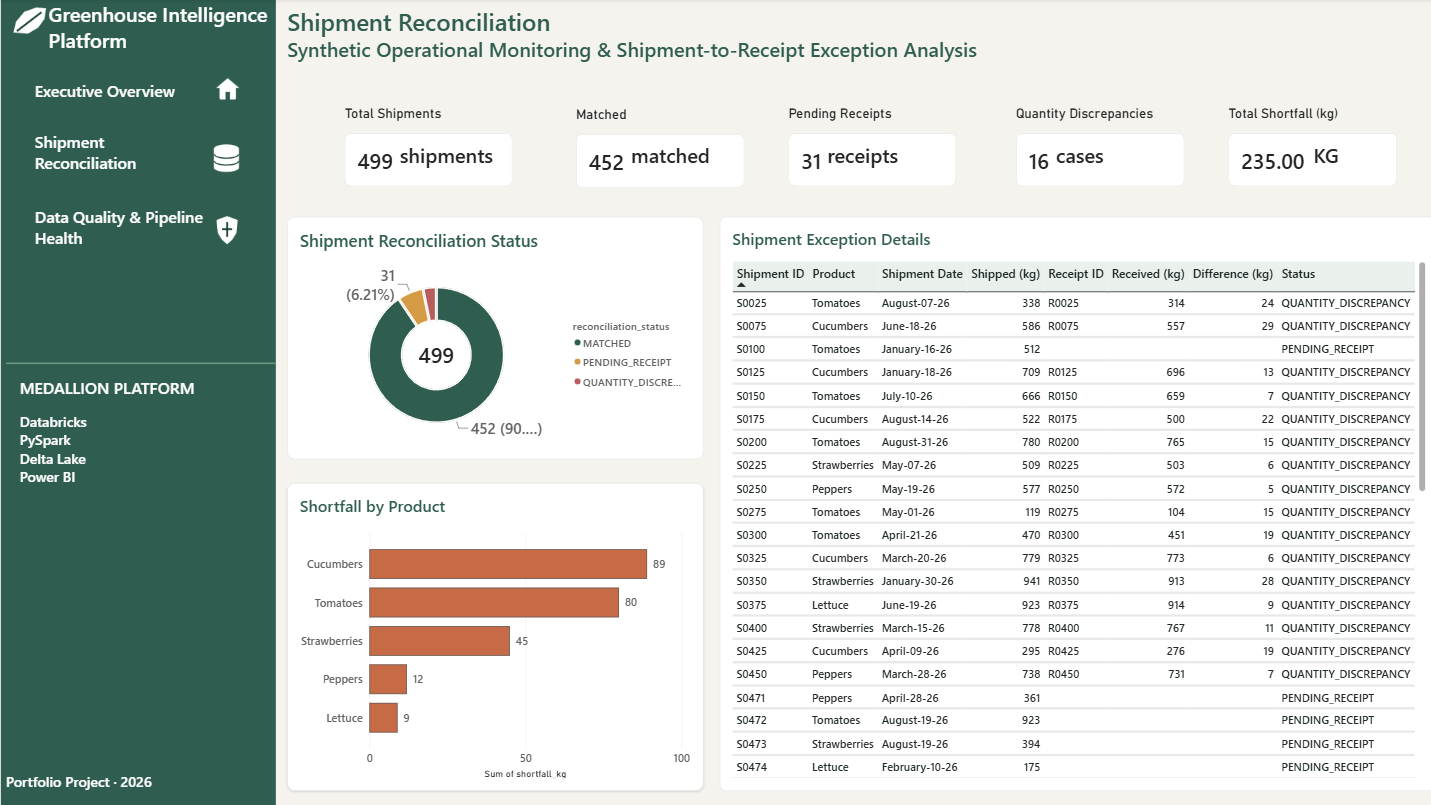

The dashboard page shown, as its layout file describes it:
{"tool":"powerbi","page":{"name":"Shipment Reconciliation","canvas":[1920,1080],"ordinal":1},"visuals":[{"type":"shape","box":[0,0,367.1,1080],"z":0,"group":"g7"},{"type":"cardVisual","title":"Total Shipments","fields":{"Data":["Sum(vw_reconciliation_kpis.total_shipments)"]},"box":[460,144.3,225,108.6],"z":0,"group":"g8"},{"type":"cardVisual","title":"Total Shortfall (kg)","fields":{"Data":["Sum(vw_reconciliation_kpis.total_shortfall_kg)"]},"box":[1640,144.3,225,108],"z":0,"group":"g6"},{"type":"donutChart","title":"Shipment Reconciliation Status","fields":{"Category":["fact_shipment_reconciliation.reconciliation_status"],"Y":["CountNonNull(fact_shipment_reconciliation.shipment_id)"]},"box":[382.9,292.9,555.7,324.3],"z":0},{"type":"image","box":[0,0,77.1,67.1],"z":1000,"group":"g7"},{"type":"cardVisual","title":"Pending Receipts","fields":{"Data":["Sum(vw_reconciliation_kpis.pending_receipts)"]},"box":[1051.4,144.3,225,108],"z":1000,"group":"g10"},{"type":"clusteredBarChart","title":"Shortfall by Product","fields":{"Category":["fact_shipment_reconciliation.product_name"],"Y":["Sum(fact_shipment_reconciliation.shortfall_kg)"]},"box":[382.9,648.6,555.7,411.4],"z":1000},{"type":"textbox","box":[64.3,2.9,292.9,95.7],"z":2000,"group":"g7"},{"type":"cardVisual","title":"Quantity Discrepancies","fields":{"Data":["Sum(vw_reconciliation_kpis.quantity_discrepancies)"]},"box":[1355.7,144.3,225,108],"z":2000,"group":"g11"},{"type":"tableEx","title":"Shipment Exception Details","fields":{"Values":["fact_shipment_reconciliation.shipment_id","fact_shipment_reconciliation.product_name","fact_shipment_reconciliation.shipment_date","Sum(fact_shipment_reconciliation.shipped_kg)","fact_shipment_reconciliation.receipt_id","Sum(fact_shipment_reconciliation.received_kg)","Sum(fact_shipment_reconciliation.quantity_difference_kg)","fact_shipment_reconciliation.reconciliation_status"]},"box":[960,292.9,960,767.1],"z":2000},{"type":"actionButton","box":[38.6,98.6,300,65.7],"z":3000,"group":"g7"},{"type":"textbox","box":[382.9,10,378.6,81.4],"z":4000},{"type":"textbox","box":[44.3,108.6,197.1,45.7],"z":4000,"group":"g7"},{"type":"cardVisual","title":"Matched","fields":{"Data":["Sum(vw_reconciliation_kpis.matched_shipments)"]},"box":[768.6,145.7,225,108.6],"z":4000,"group":"g4"},{"type":"textbox","box":[382.9,50,1064.3,58.6],"z":5000},{"type":"group","id":"g1","title":"Group 1","box":[267.1,98.6,71.4,45.7],"z":5000,"group":"g7"},{"type":"group","id":"g2","title":"Group 1","box":[1355.7,144.3,225,108],"z":6000},{"type":"actionButton","box":[38.6,174.3,300,70],"z":6000,"group":"g7"},{"type":"group","id":"g3","title":"Group 2","box":[1051.4,144.3,225,108],"z":7000},{"type":"image","box":[264.3,185.7,74.3,58.6],"z":7000,"group":"g7"},{"type":"textbox","box":[1752.9,192.5,74.3,40],"z":7000,"group":"g6"},{"type":"group","id":"g4","title":"Group 3","box":[768.6,145.7,225,108.6],"z":8000},{"type":"textbox","box":[44.3,177.1,211.4,58.6],"z":8000,"group":"g7"},{"type":"group","id":"g5","title":"Group 4","box":[460,144.3,225,108.6],"z":9000},{"type":"actionButton","box":[38.6,277.1,300,67.1],"z":9000,"group":"g7"},{"type":"group","id":"g6","title":"Group 5","box":[1640,144.3,225,108],"z":10000},{"type":"image","box":[257.1,284.3,90,52.9],"z":10000,"group":"g7"},{"type":"group","id":"g7","title":"Group 2","box":[0,0,367.1,1080],"z":10001},{"type":"group","id":"g8","title":"Group 6","box":[460,144.3,225,108.6],"z":10001,"group":"g5"},{"type":"group","id":"g9","title":"Group 7","box":[1051.4,144.3,225,108],"z":10001,"group":"g3"},{"type":"group","id":"g10","title":"Group 8","box":[1051.4,144.3,225,108],"z":10001,"group":"g9"},{"type":"group","id":"g11","title":"Group 9","box":[1355.7,144.3,225,108],"z":10001,"group":"g2"},{"type":"textbox","box":[44.3,277.1,262.9,67.1],"z":11000,"group":"g7"},{"type":"textbox","box":[1409,192.5,107.1,40],"z":11001,"group":"g11"},{"type":"textbox","box":[1103.6,192.5,134.3,58.6],"z":11003,"group":"g10"},{"type":"textbox","box":[842.1,191.8,151.4,52.9],"z":11005,"group":"g4"},{"type":"textbox","box":[534.3,192.5,131.4,47.1],"z":11007,"group":"g8"},{"type":"shape","box":[7.1,451.4,360,74.3],"z":12000,"group":"g7"},{"type":"textbox","box":[25.7,505.7,300,40],"z":13000,"group":"g7"},{"type":"textbox","box":[25.7,552.9,300,114.3],"z":14000,"group":"g7"},{"type":"textbox","box":[7.1,1034.3,300,34.3],"z":15000,"group":"g7"},{"type":"image","box":[267.1,98.6,71.4,45.7],"z":17001,"group":"g1"}]}

Visuals, with their boxes on the page's 1920x1080 design canvas (x1, y1, x2, y2). These are canvas units, not pixel positions in the 1431x805 screenshot, which may show the page scaled, cropped or inside an application window:
shape: 0,0,367,1080
"Total Shipments" cardVisual: 460,144,685,253
"Total Shortfall (kg)" cardVisual: 1640,144,1865,252
"Shipment Reconciliation Status" donutChart: 383,293,939,617
image: 0,0,77,67
"Pending Receipts" cardVisual: 1051,144,1276,252
"Shortfall by Product" clusteredBarChart: 383,649,939,1060
textbox: 64,3,357,99
"Quantity Discrepancies" cardVisual: 1356,144,1581,252
"Shipment Exception Details" tableEx: 960,293,1920,1060
actionButton: 39,99,339,164
textbox: 383,10,762,91
textbox: 44,109,241,154
"Matched" cardVisual: 769,146,994,254
textbox: 383,50,1447,109
"Group 1" group: 267,99,338,144
"Group 1" group: 1356,144,1581,252
actionButton: 39,174,339,244
"Group 2" group: 1051,144,1276,252
image: 264,186,339,244
textbox: 1753,192,1827,232
"Group 3" group: 769,146,994,254
textbox: 44,177,256,236
"Group 4" group: 460,144,685,253
actionButton: 39,277,339,344
"Group 5" group: 1640,144,1865,252
image: 257,284,347,337
"Group 2" group: 0,0,367,1080
"Group 6" group: 460,144,685,253
"Group 7" group: 1051,144,1276,252
"Group 8" group: 1051,144,1276,252
"Group 9" group: 1356,144,1581,252
textbox: 44,277,307,344
textbox: 1409,192,1516,232
textbox: 1104,192,1238,251
textbox: 842,192,994,245
textbox: 534,192,666,240
shape: 7,451,367,526
textbox: 26,506,326,546
textbox: 26,553,326,667
textbox: 7,1034,307,1069
image: 267,99,338,144
